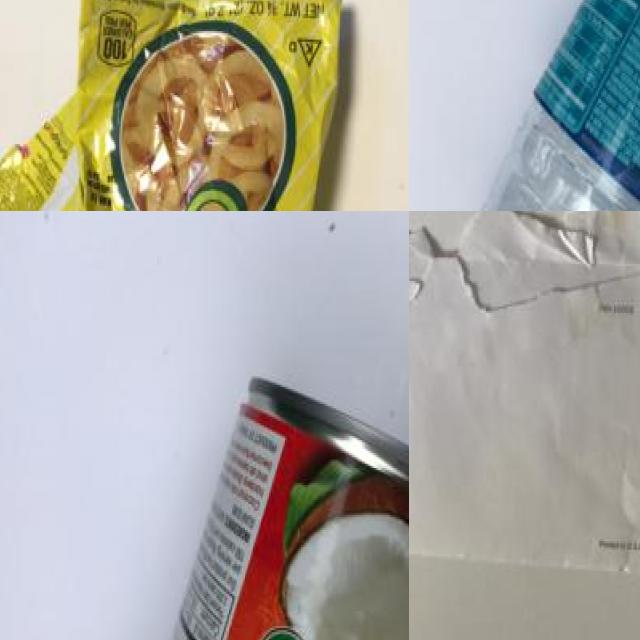paper: (409, 211, 640, 583)
plastic: (150, 357, 409, 640), (465, 0, 640, 211)
trash: (7, 0, 365, 211)
